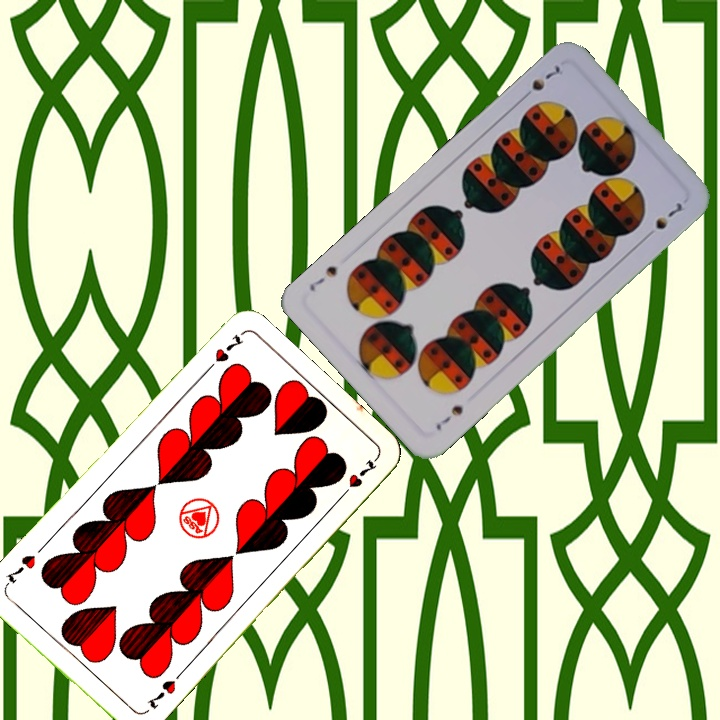H7: (200, 330, 246, 377), (143, 676, 179, 712)
S7: (516, 59, 566, 103), (431, 401, 466, 433)
